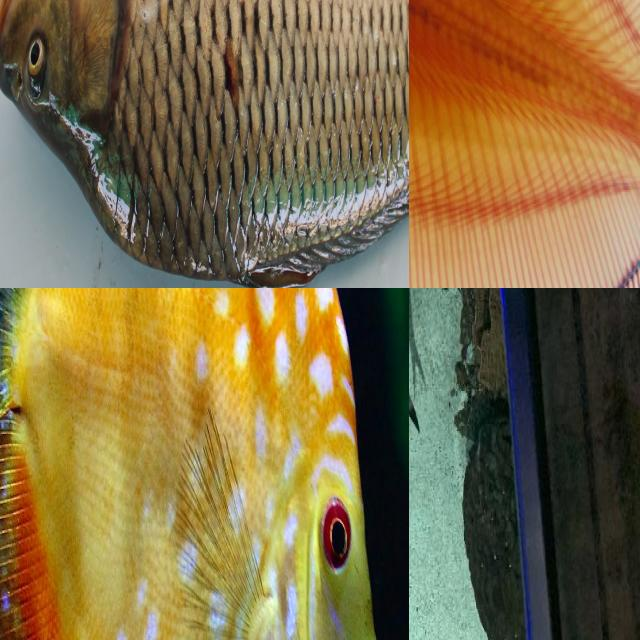fish: (0, 288, 409, 640), (0, 0, 409, 288), (409, 0, 640, 288)
